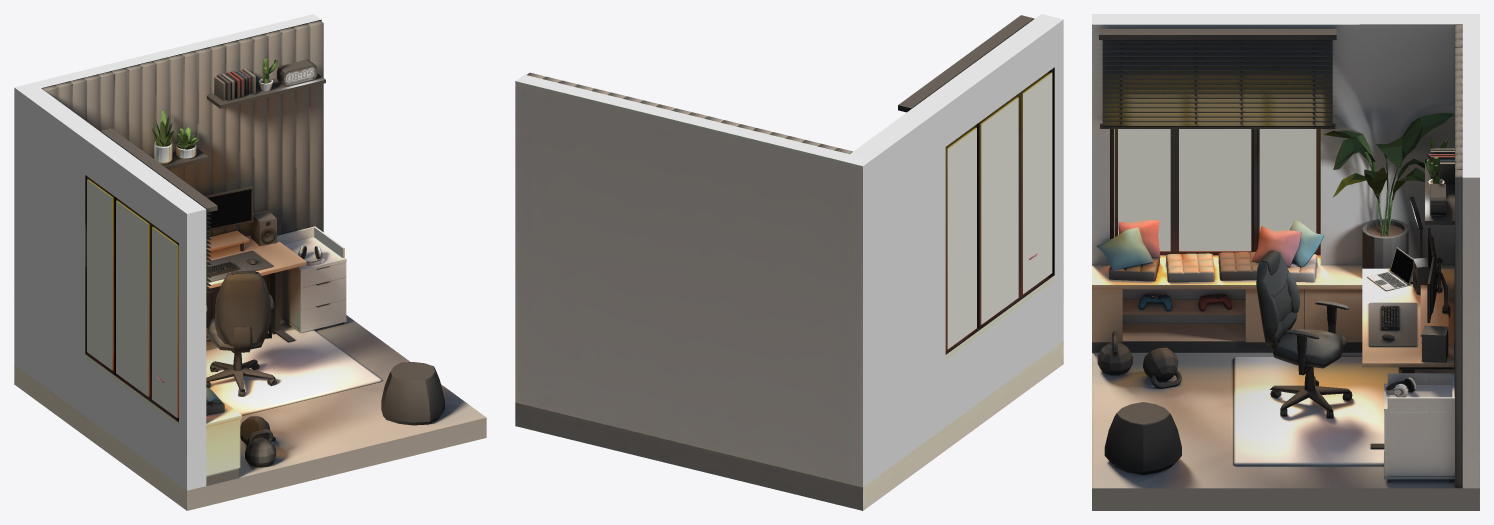
3 renders of one model, left to right at view 1: azimuth 30°, elevation 25°; view 2: azimuth 150°, elevation 25°; view 3: azimuth 270°, elevation 25°, orthographic. The views are drawn at different scales.
Visible parts, largest first — view 1: wall, foam, floor, window, carpet, shelf, chair, chair.001, shelf.001, desk, shutters, monitor (+10 smaller); view 2: wall, window, floor, shutters, foam; view 3: wall, floor, shutters, window, carpet, shelf.001, chair, shelf, plant.001, chair.001, desk, foam (+20 smaller).
Boxes of the visible parts, <box> form: wall: <box>14,14,321,490</box>; foam: <box>42,20,323,327</box>; floor: <box>14,315,486,510</box>; window: <box>85,175,178,422</box>; carpet: <box>206,329,381,415</box>; shelf: <box>269,226,346,332</box>; chair: <box>206,270,276,396</box>; chair.001: <box>381,362,444,425</box>; shelf.001: <box>206,398,241,485</box>; desk: <box>206,235,306,342</box>; shutters: <box>100,128,217,293</box>; monitor: <box>205,186,253,230</box>; wall: <box>515,14,1063,487</box>; window: <box>945,67,1054,354</box>; floor: <box>515,341,1063,510</box>; shutters: <box>898,15,1034,112</box>; foam: <box>527,72,852,154</box>; wall: <box>1092,14,1479,488</box>; floor: <box>1092,352,1479,510</box>; shutters: <box>1099,28,1336,128</box>; window: <box>1110,129,1320,255</box>; carpet: <box>1233,357,1399,465</box>; shelf.001: <box>1092,265,1454,352</box>; chair: <box>1256,250,1352,418</box>; shelf: <box>1384,373,1454,482</box>; plant.001: <box>1321,113,1453,268</box>; chair.001: <box>1104,402,1181,474</box>; desk: <box>1362,268,1454,448</box>; foam: <box>1455,24,1462,487</box>.
Size of the model in its own units: 3.12 by 2.95 by 3.11.
Materials: 1 (1 with a texture image).
